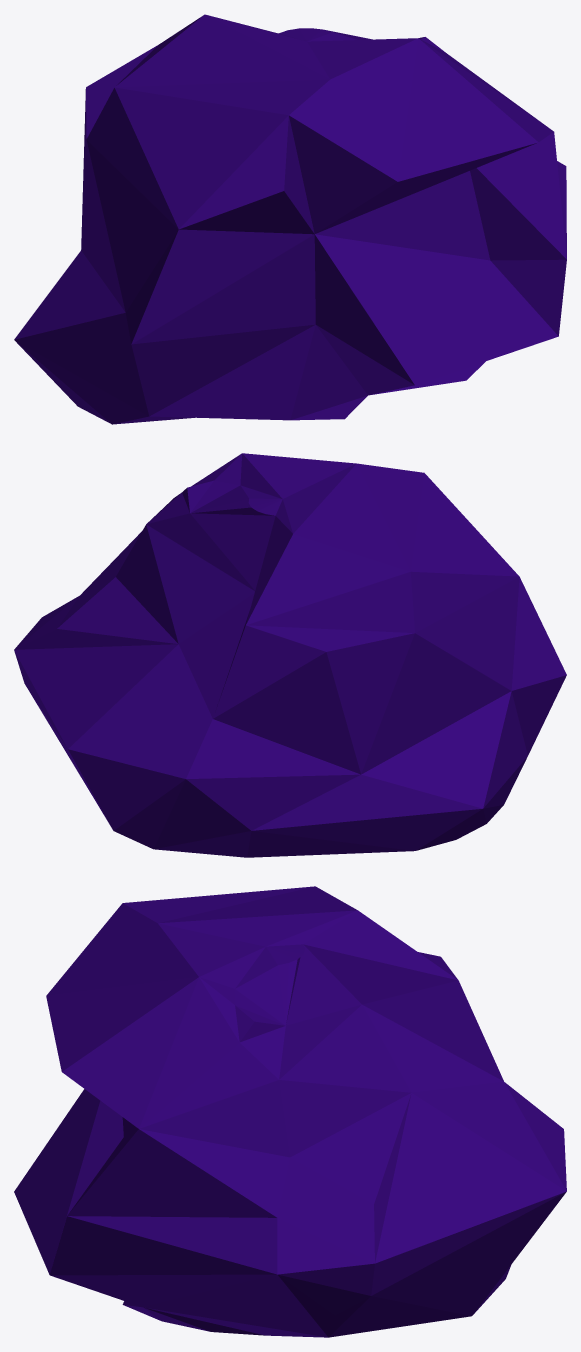
Rendered from rock1.fbx.
3 views of the same model, one above another, from view 1: azimuth 30°, elevation 25°; view 2: azimuth 150°, elevation 25°; view 3: azimuth 270°, elevation 25° (orthographic). The views are drawn at different scales.
Parts seen in each view (by area): view 1: pSphere1; view 2: pSphere1; view 3: pSphere1.
Part boxes in pixels (x1,y1,x2,y2): pSphere1: [14, 14, 566, 424]; pSphere1: [14, 453, 566, 857]; pSphere1: [14, 886, 566, 1337].
Size of the model in its own units: 1.44 by 0.8639 by 1.3.
